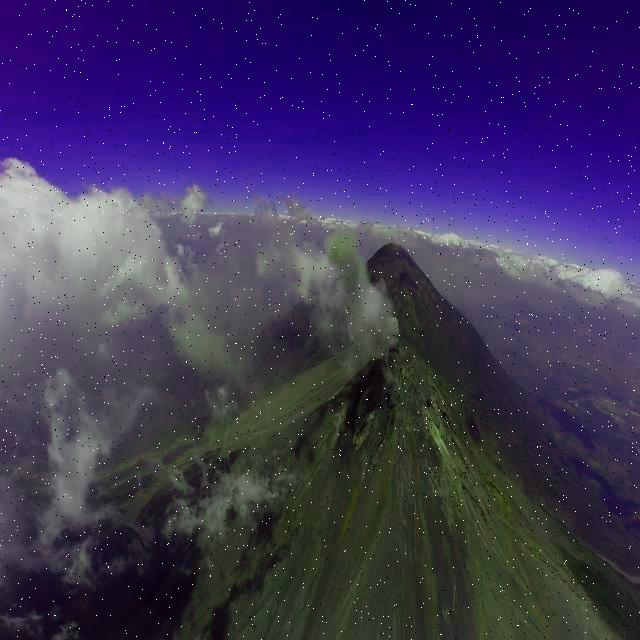Plume: (322, 228, 402, 346)
Summit: (339, 336, 474, 464)
